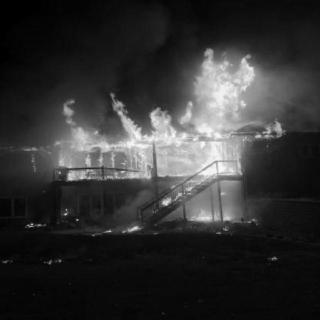Fire: (19, 44, 287, 237)
